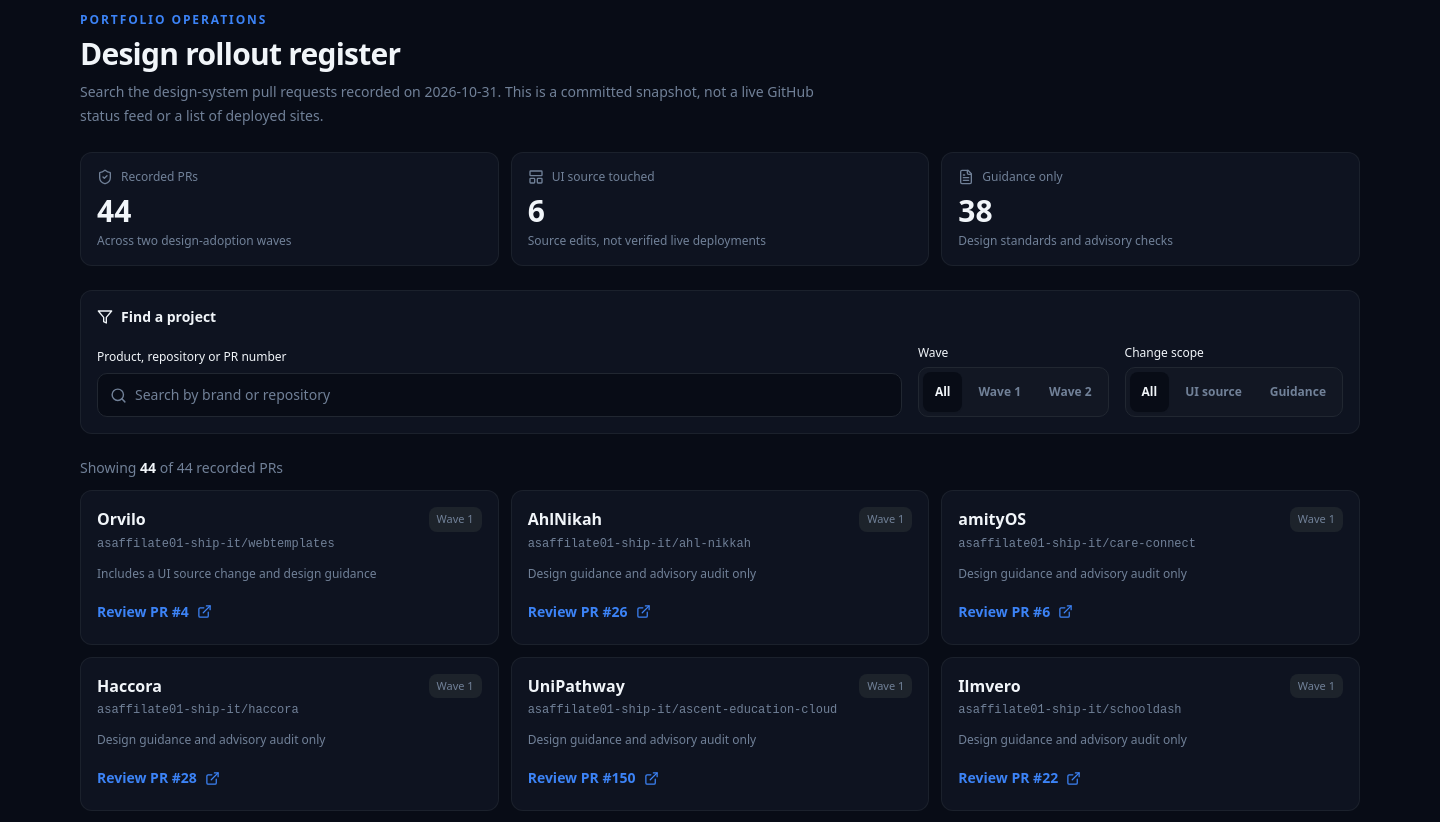
Test case: portfolio design rollout register › filters by brand, wave and actual UI source changes and recovers an empty result
Type "TaxNuvia" into the search field labelled "Product, repository or PR number" at coordinates (512, 395), box x1=135 y1=375 x2=889 y2=415
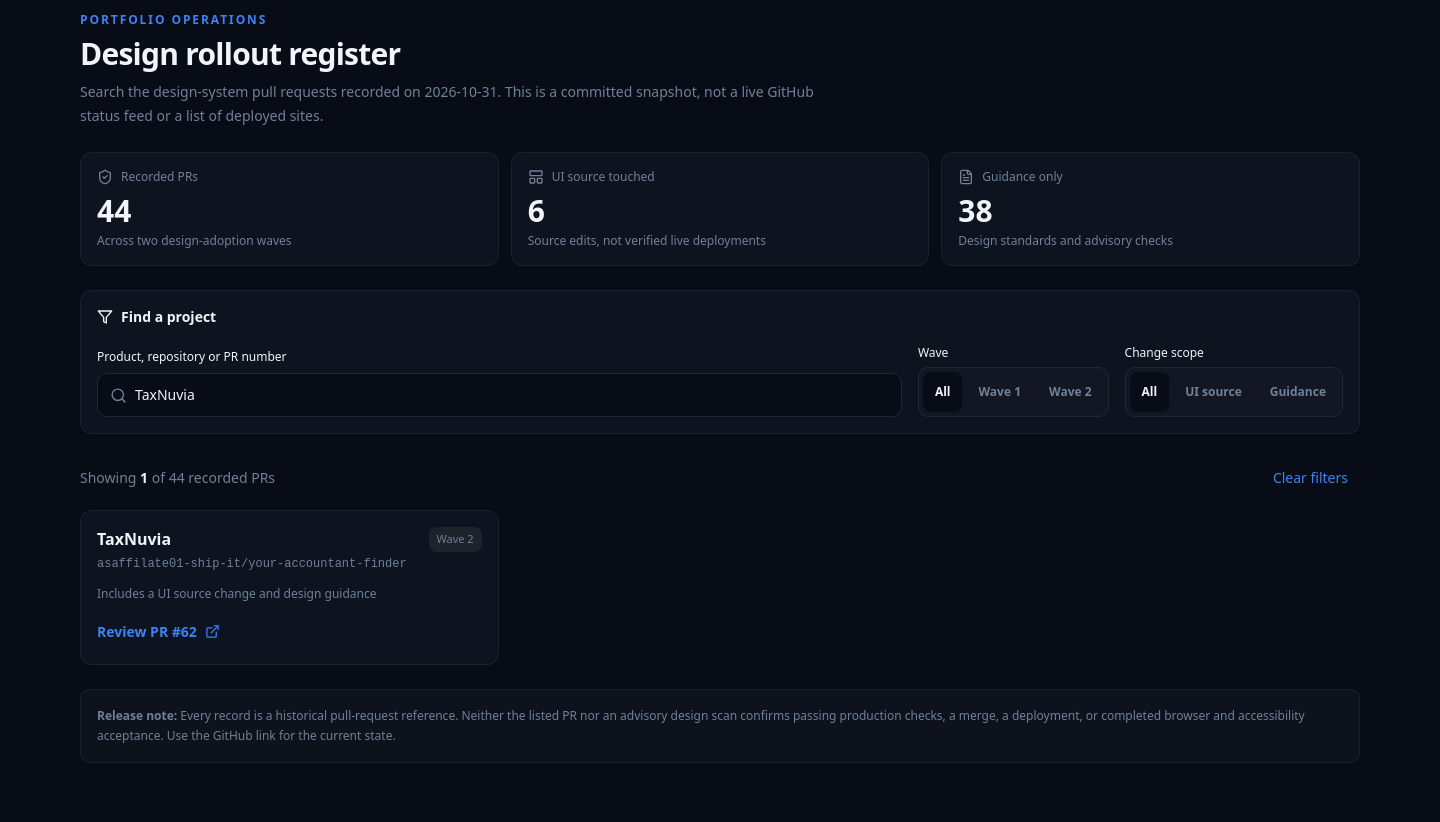
Expected: the number of links named "pull request #" is 1, x1=97 y1=622 x2=220 y2=640
Click the button "Wave 1" at coordinates (1000, 392), box x1=966 y1=372 x2=1033 y2=412
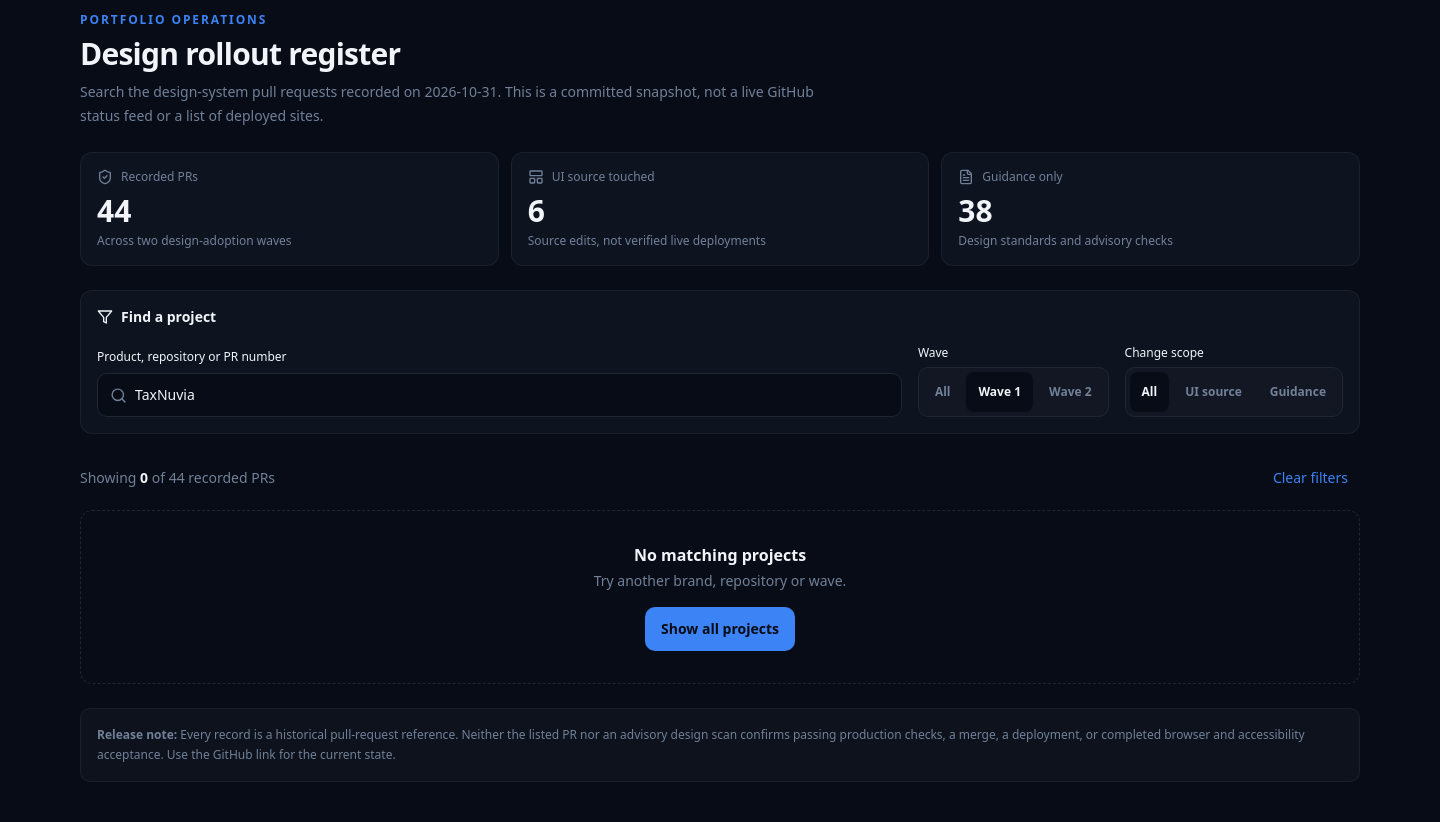
Expected: the heading "No matching projects" is shown, x1=634 y1=544 x2=806 y2=566
Click the button "Show all projects" at coordinates (720, 629), box x1=645 y1=607 x2=795 y2=651
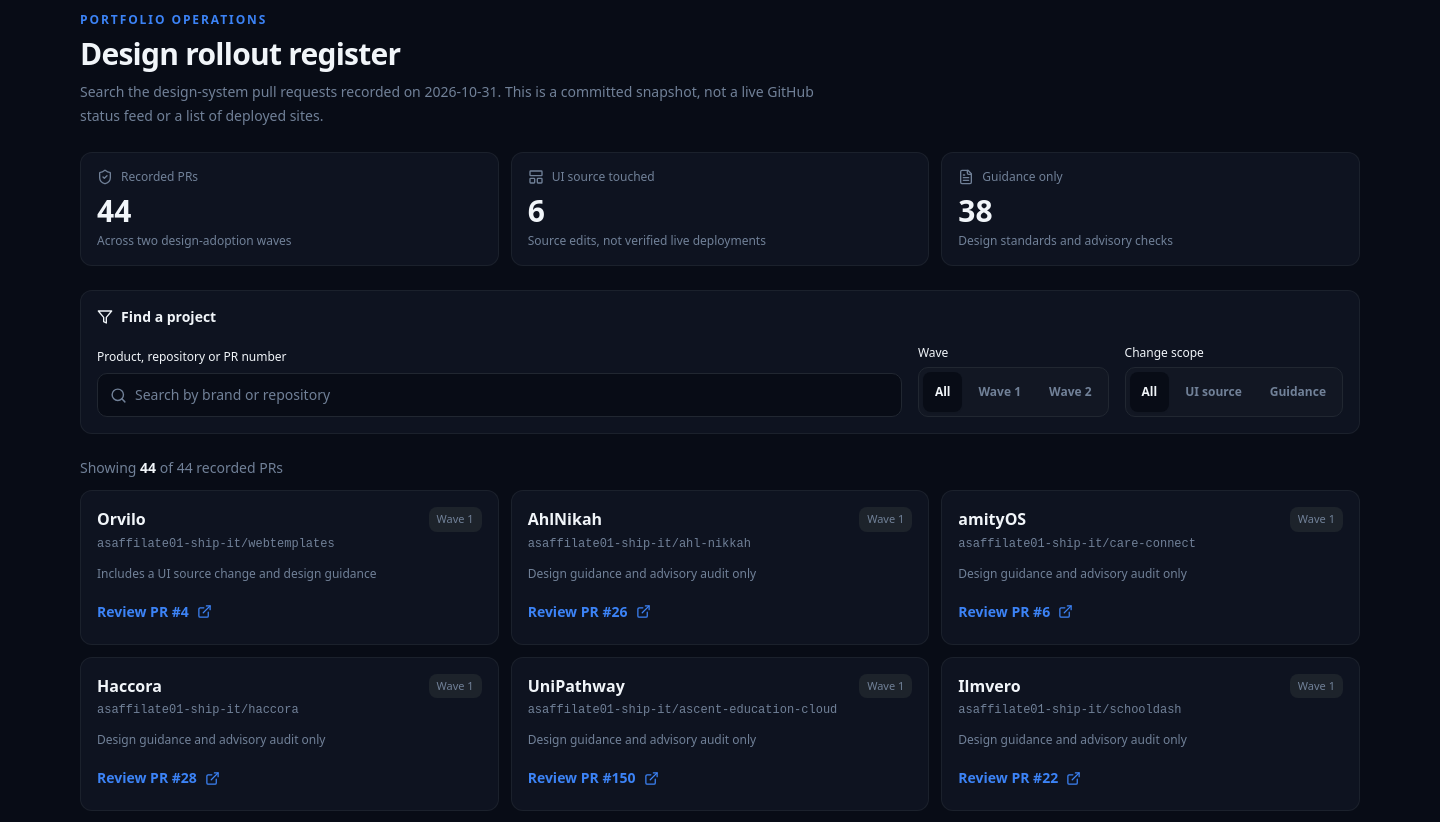
Click the button "UI source" at coordinates (1214, 392), box x1=1173 y1=372 x2=1254 y2=412
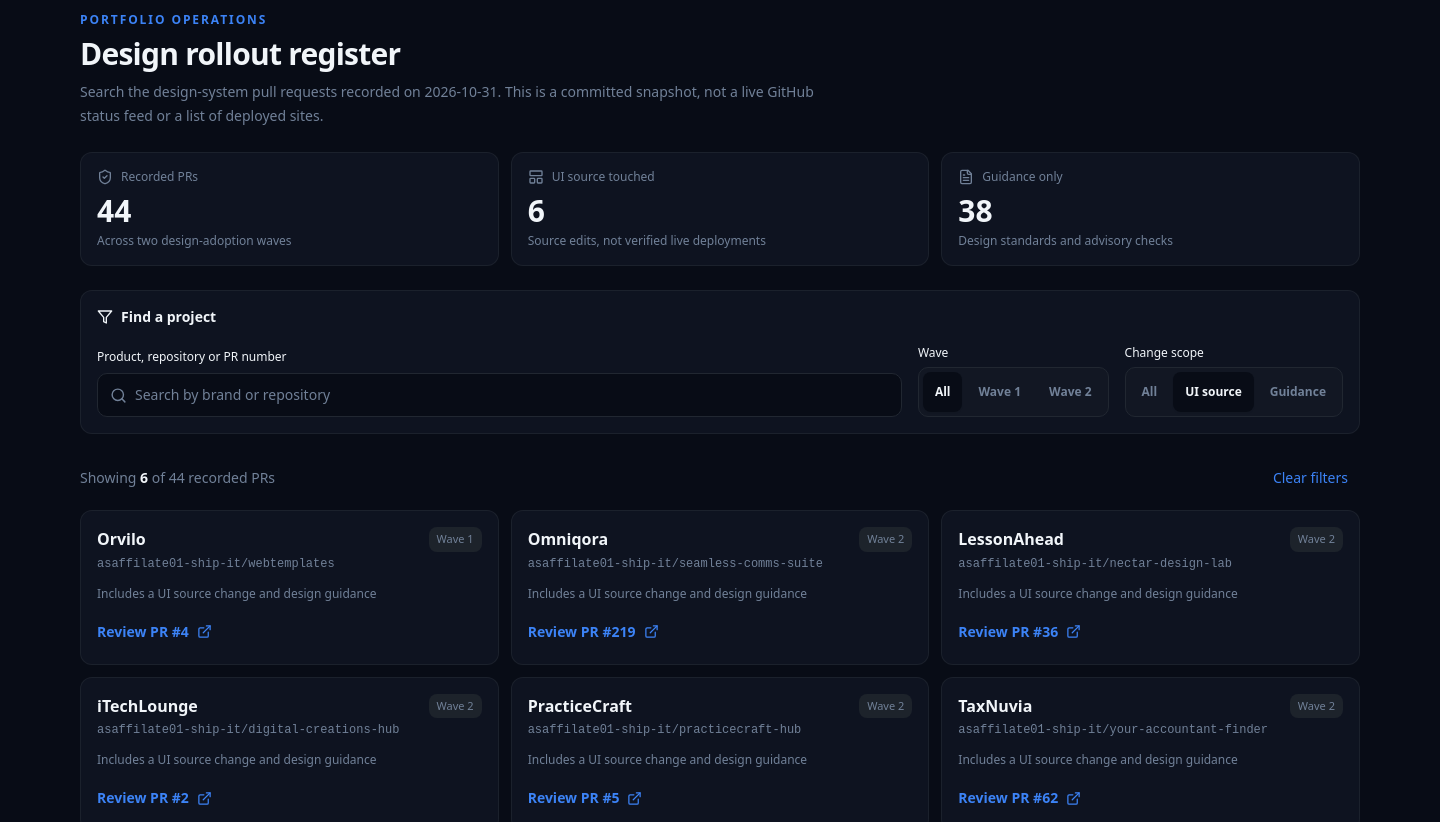
Expected: the number of links named "pull request #" is 6, x1=97 y1=622 x2=212 y2=640; x1=528 y1=622 x2=658 y2=640; x1=958 y1=622 x2=1081 y2=640; x1=97 y1=788 x2=212 y2=807; x1=528 y1=788 x2=642 y2=807; x1=958 y1=788 x2=1081 y2=807
